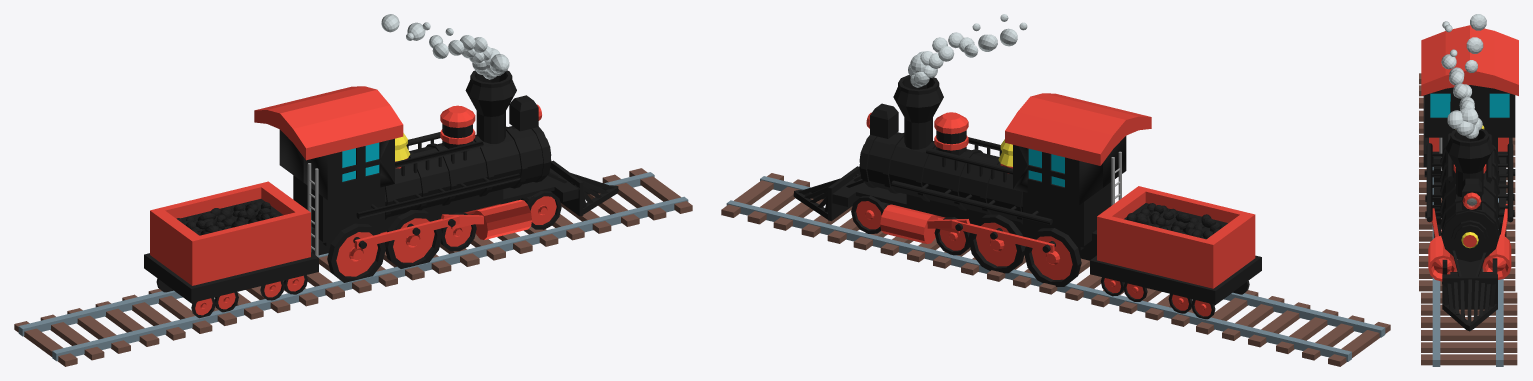
The model's file is train.obj.
3 views of the same model, side by side, from view 1: azimuth 30°, elevation 25°; view 2: azimuth 150°, elevation 25°; view 3: azimuth 270°, elevation 25° (orthographic). The views are drawn at different scales.
Parts seen in each view (by area): view 1: train, karretje_karretje_train.019, tracks_train.001; view 2: train, karretje_karretje_train.019, tracks_train.001; view 3: train, tracks_train.001, karretje_karretje_train.019.
Part boxes in pixels (x1,y1,x2,y2): train: [254, 14, 618, 282]; karretje_karretje_train.019: [144, 181, 503, 318]; tracks_train.001: [14, 168, 692, 366]; train: [793, 14, 1151, 286]; karretje_karretje_train.019: [906, 186, 1261, 319]; tracks_train.001: [721, 173, 1390, 366]; train: [1421, 14, 1518, 331]; tracks_train.001: [1419, 73, 1517, 366]; karretje_karretje_train.019: [1423, 95, 1512, 173].
Bounding box in the file's own units: 3.57 × 1.31 × 0.5189.
